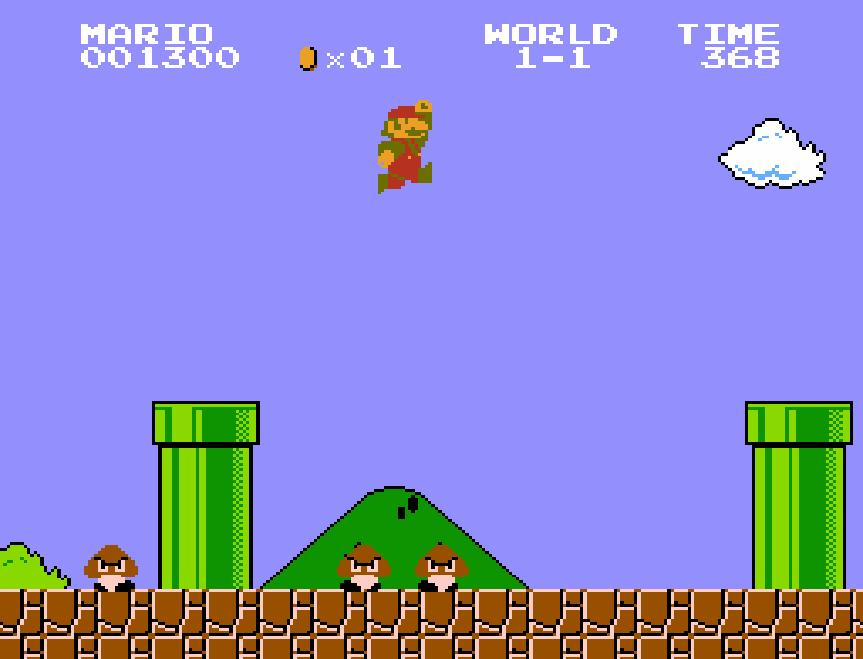big_mario: (376, 98, 434, 196)
